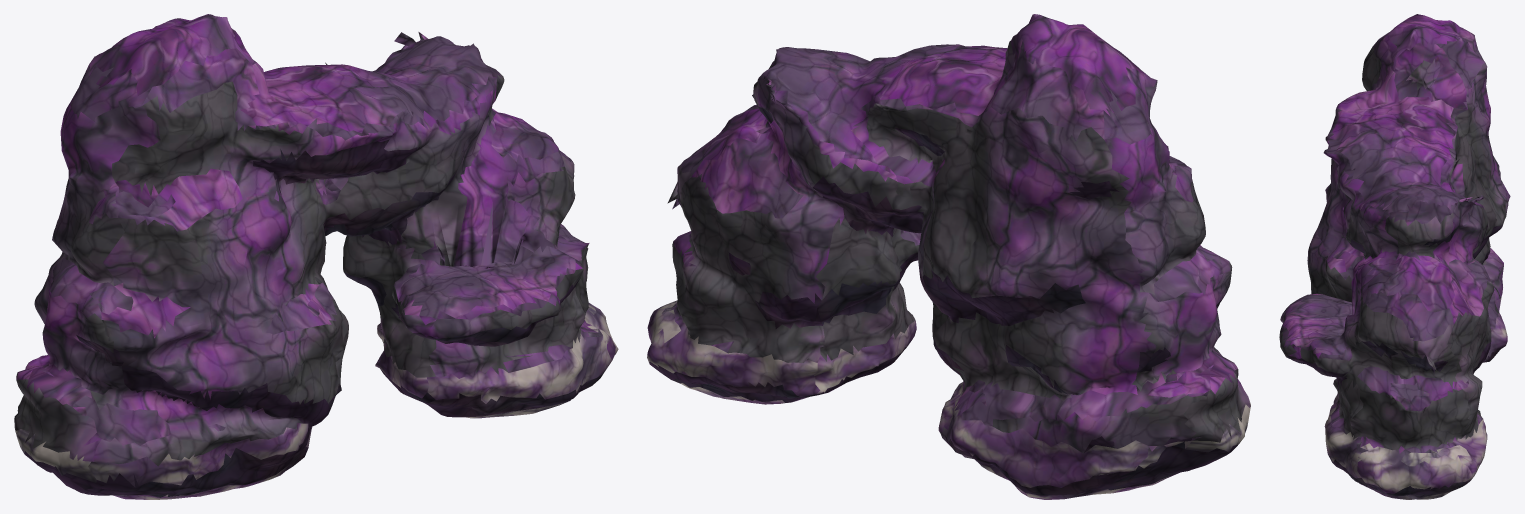
The model's file is reef-nsa-high-arch-span.glb.
3 views of the same model, side by side, from view 1: azimuth 30°, elevation 25°; view 2: azimuth 150°, elevation 25°; view 3: azimuth 270°, elevation 25° (orthographic). The views are drawn at different scales.
Visible parts, largest first — view 1: Reef_NSA_High_Arch_Span; view 2: Reef_NSA_High_Arch_Span; view 3: Reef_NSA_High_Arch_Span.
Boxes of the visible parts, x1,y1,x2,y2 form: Reef_NSA_High_Arch_Span: (14,14,618,499); Reef_NSA_High_Arch_Span: (647,14,1250,499); Reef_NSA_High_Arch_Span: (1279,14,1510,499).
Size of the model in its own units: 0.879 by 0.6393 by 0.3921.
Materials: 1 (1 with a texture image).
